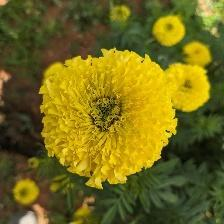marigold: (39, 47, 178, 190)
